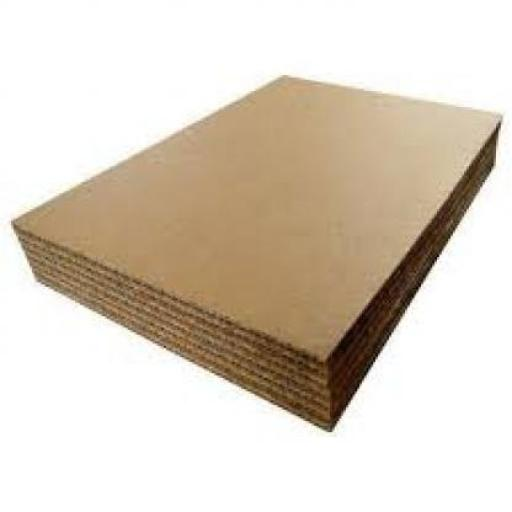cardboard: (8, 73, 498, 428)
